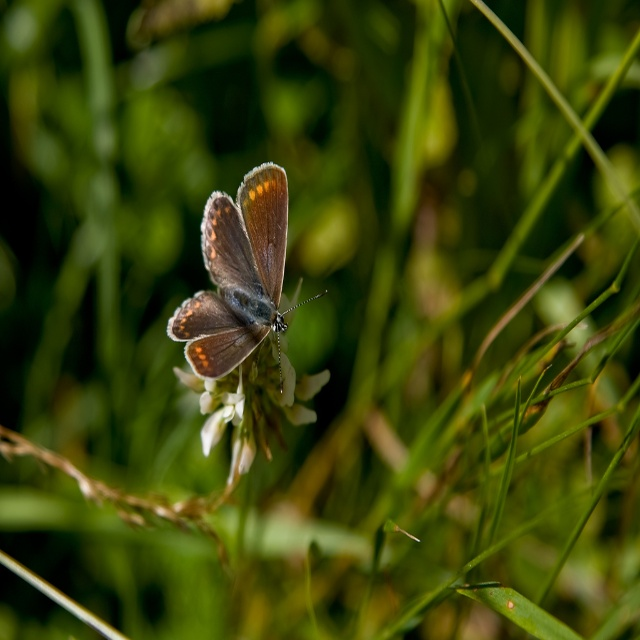Butterfly: (166, 161, 313, 412)
